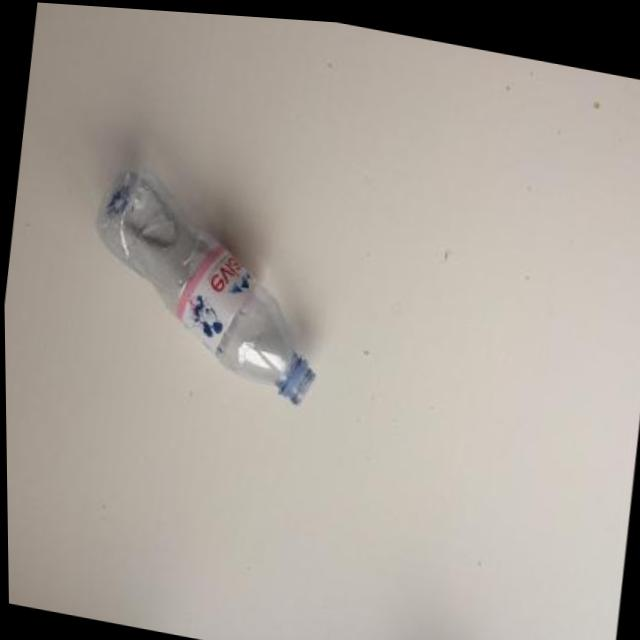plastic: (77, 156, 340, 409)
